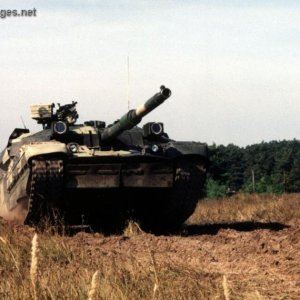Battle Tank: (1, 87, 210, 231)
